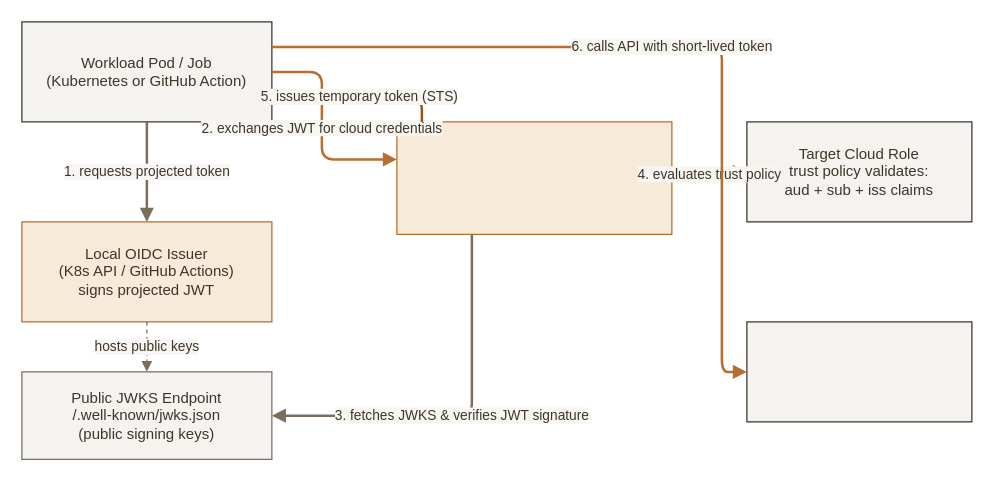
The diagram is 994 pixels wide and 481 high, and some of its shapes have lost their labels. Each missing label, with the centre of its shape:
Cloud STS Broker (AWS STS / GCP STS) AssumeRoleWithWebIdentity: (534,177)
Protected Cloud API (S3, Secrets, Database) short-lived 1h access: (859,371)
